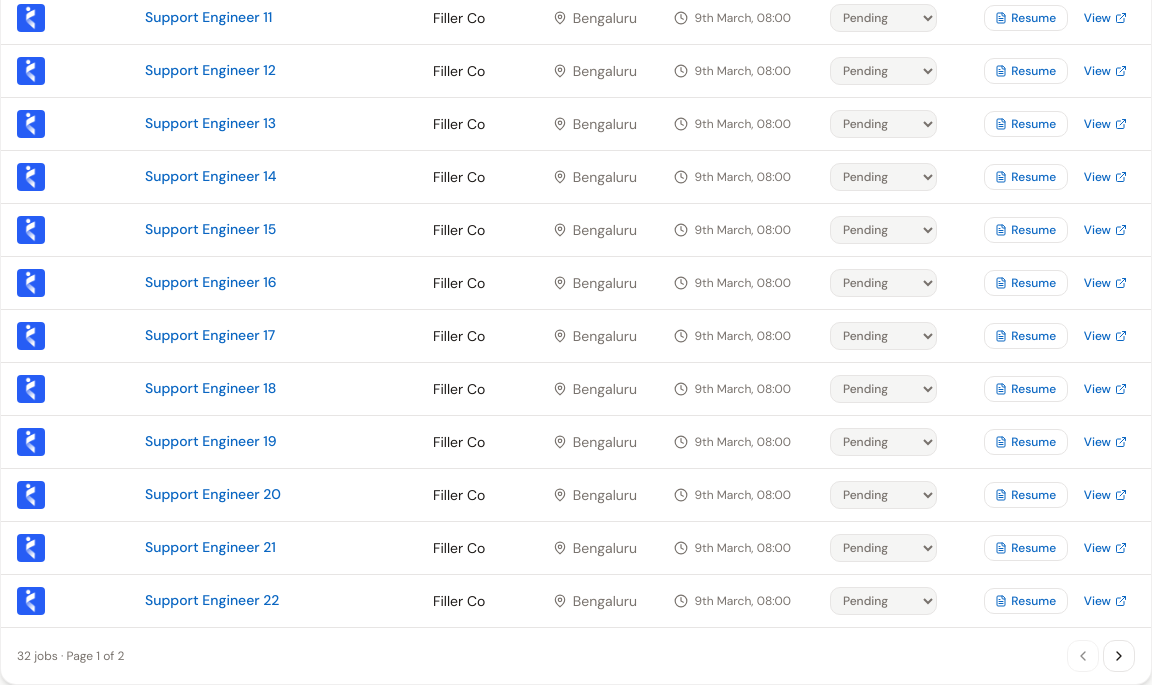
Scenario: JobScoutShell › filters by category, remembers it, and returns to page one
The width and height of the screenshot is (1152, 685).
(page scrolled)
What coordinates should you click on to do the following:
click the button named "Next page"
I would click on:
 (1119, 656)
Its box is x1=1103 y1=640 x2=1135 y2=672.
(page scrolled)
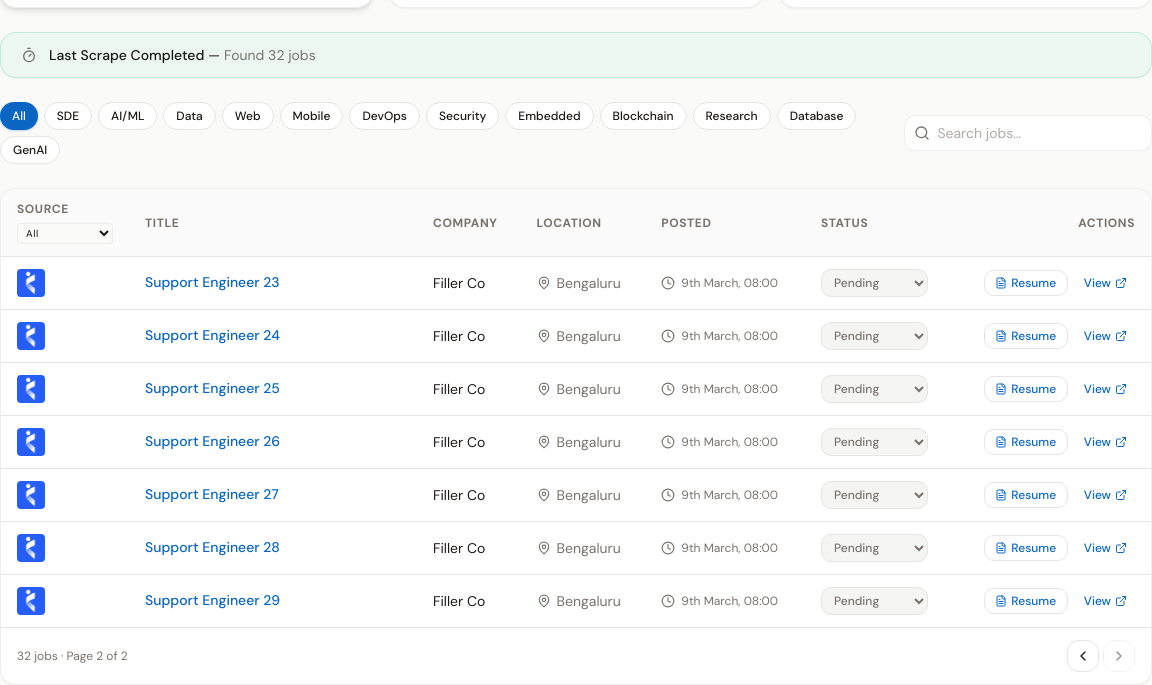
Expected: the text "32 jobs · Page 2 of 2" is shown, x1=17 y1=648 x2=128 y2=664
What coordinates should you click on to do the following:
click the button "AI/ML"
I would click on:
 (128, 116)
Its box is x1=98 y1=102 x2=157 y2=130.
(page scrolled)
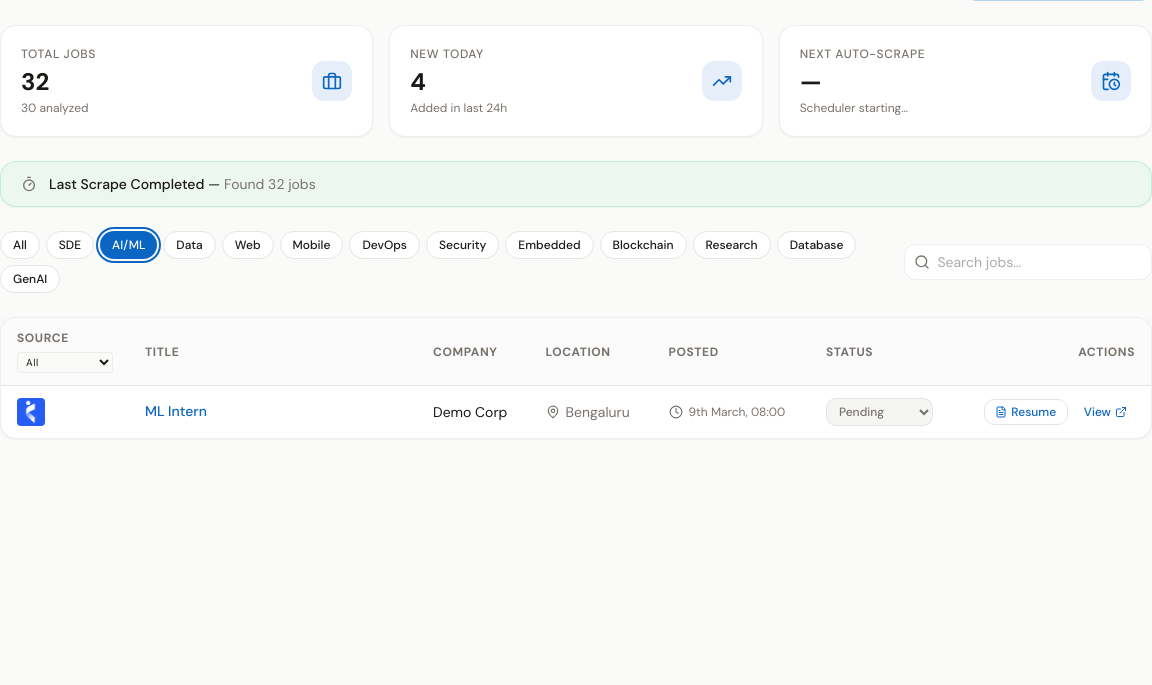
Expected: the button "AI/ML" is shown, x1=100 y1=231 x2=157 y2=259
Expected: the button "ML Intern" is shown, x1=145 y1=403 x2=207 y2=421
Expected: the text "32 jobs · Page 2 of 2" is gone
